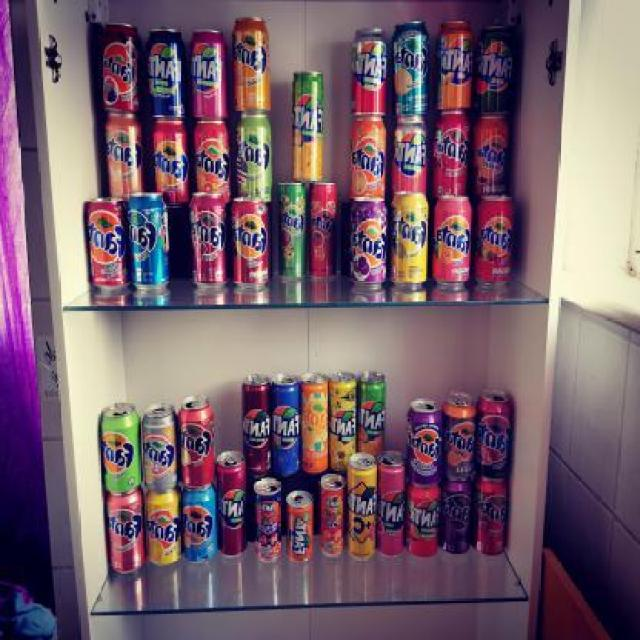Drinks: (126, 193, 169, 298), (99, 23, 143, 115), (85, 198, 127, 292), (475, 24, 516, 118), (434, 19, 475, 113), (145, 28, 186, 120), (188, 192, 227, 288), (475, 196, 516, 287), (392, 20, 430, 118), (100, 402, 140, 495), (230, 200, 272, 288), (232, 17, 270, 114), (433, 197, 473, 288), (189, 28, 228, 121), (291, 72, 324, 180), (391, 195, 429, 288), (177, 396, 215, 489), (350, 26, 388, 119), (349, 201, 388, 288), (216, 451, 247, 557), (476, 390, 512, 481), (141, 404, 177, 494), (433, 113, 472, 195), (106, 494, 145, 575), (105, 116, 146, 192), (407, 398, 442, 487), (443, 391, 477, 480), (473, 116, 509, 198), (237, 114, 272, 198), (348, 452, 375, 560), (378, 451, 405, 558), (299, 372, 327, 474), (350, 120, 385, 200), (271, 374, 298, 477), (310, 182, 338, 280), (278, 182, 305, 281), (194, 121, 231, 193), (145, 493, 181, 567), (181, 489, 216, 565), (392, 118, 426, 196), (440, 480, 475, 555), (153, 120, 189, 192), (405, 486, 440, 560), (474, 481, 508, 556), (253, 478, 281, 564), (328, 371, 357, 452), (358, 371, 387, 451), (319, 473, 346, 558), (284, 489, 314, 563), (242, 373, 269, 453)
